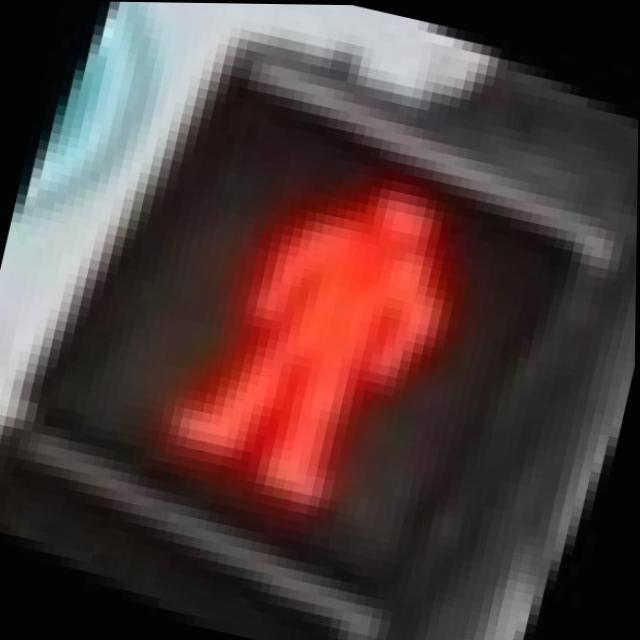red_light: (9, 18, 602, 596)
